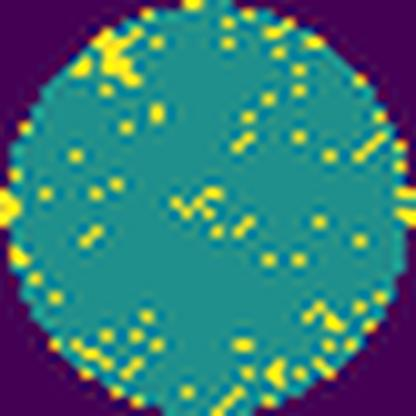Edge-Loc: (91, 26, 148, 87), (0, 192, 24, 226)
